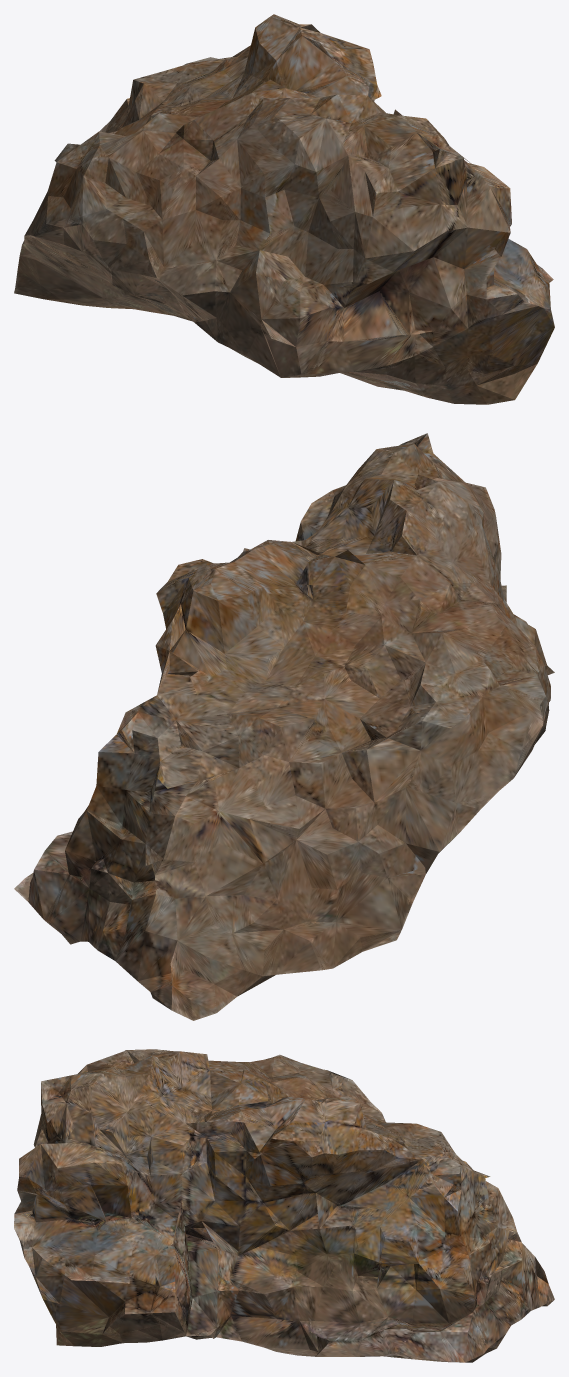
The model's file is boulder_lod.glb.
3 renders of one model, top to bottom at view 1: azimuth 30°, elevation 25°; view 2: azimuth 150°, elevation 25°; view 3: azimuth 270°, elevation 25°, orthographic. The views are drawn at different scales.
Parts seen in each view (by area): view 1: car; view 2: car; view 3: car.
Boxes of the visible parts, bbox=[...] form: car: bbox=[14, 14, 554, 404]; car: bbox=[14, 433, 554, 1020]; car: bbox=[14, 1049, 554, 1362].
Bounding box in the file's own units: 1.25 × 0.9856 × 1.81.
Materials: 1 (1 with a texture image).
